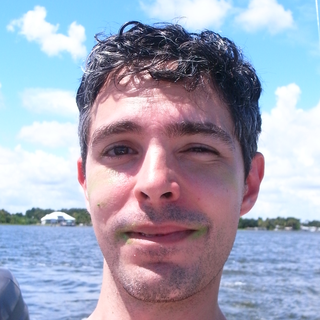eye: (98, 139, 142, 164), (174, 140, 222, 162)
